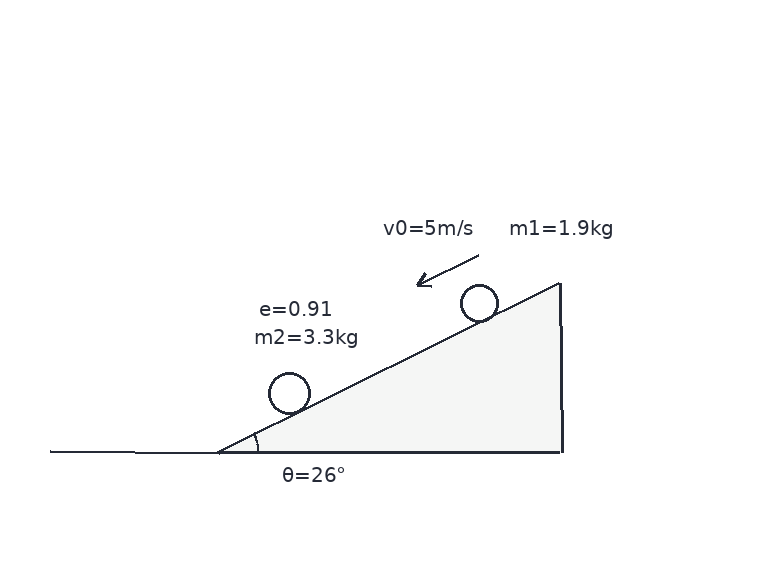ball: (266, 370, 312, 416), (458, 282, 500, 324)
ramp: (216, 282, 562, 453)
